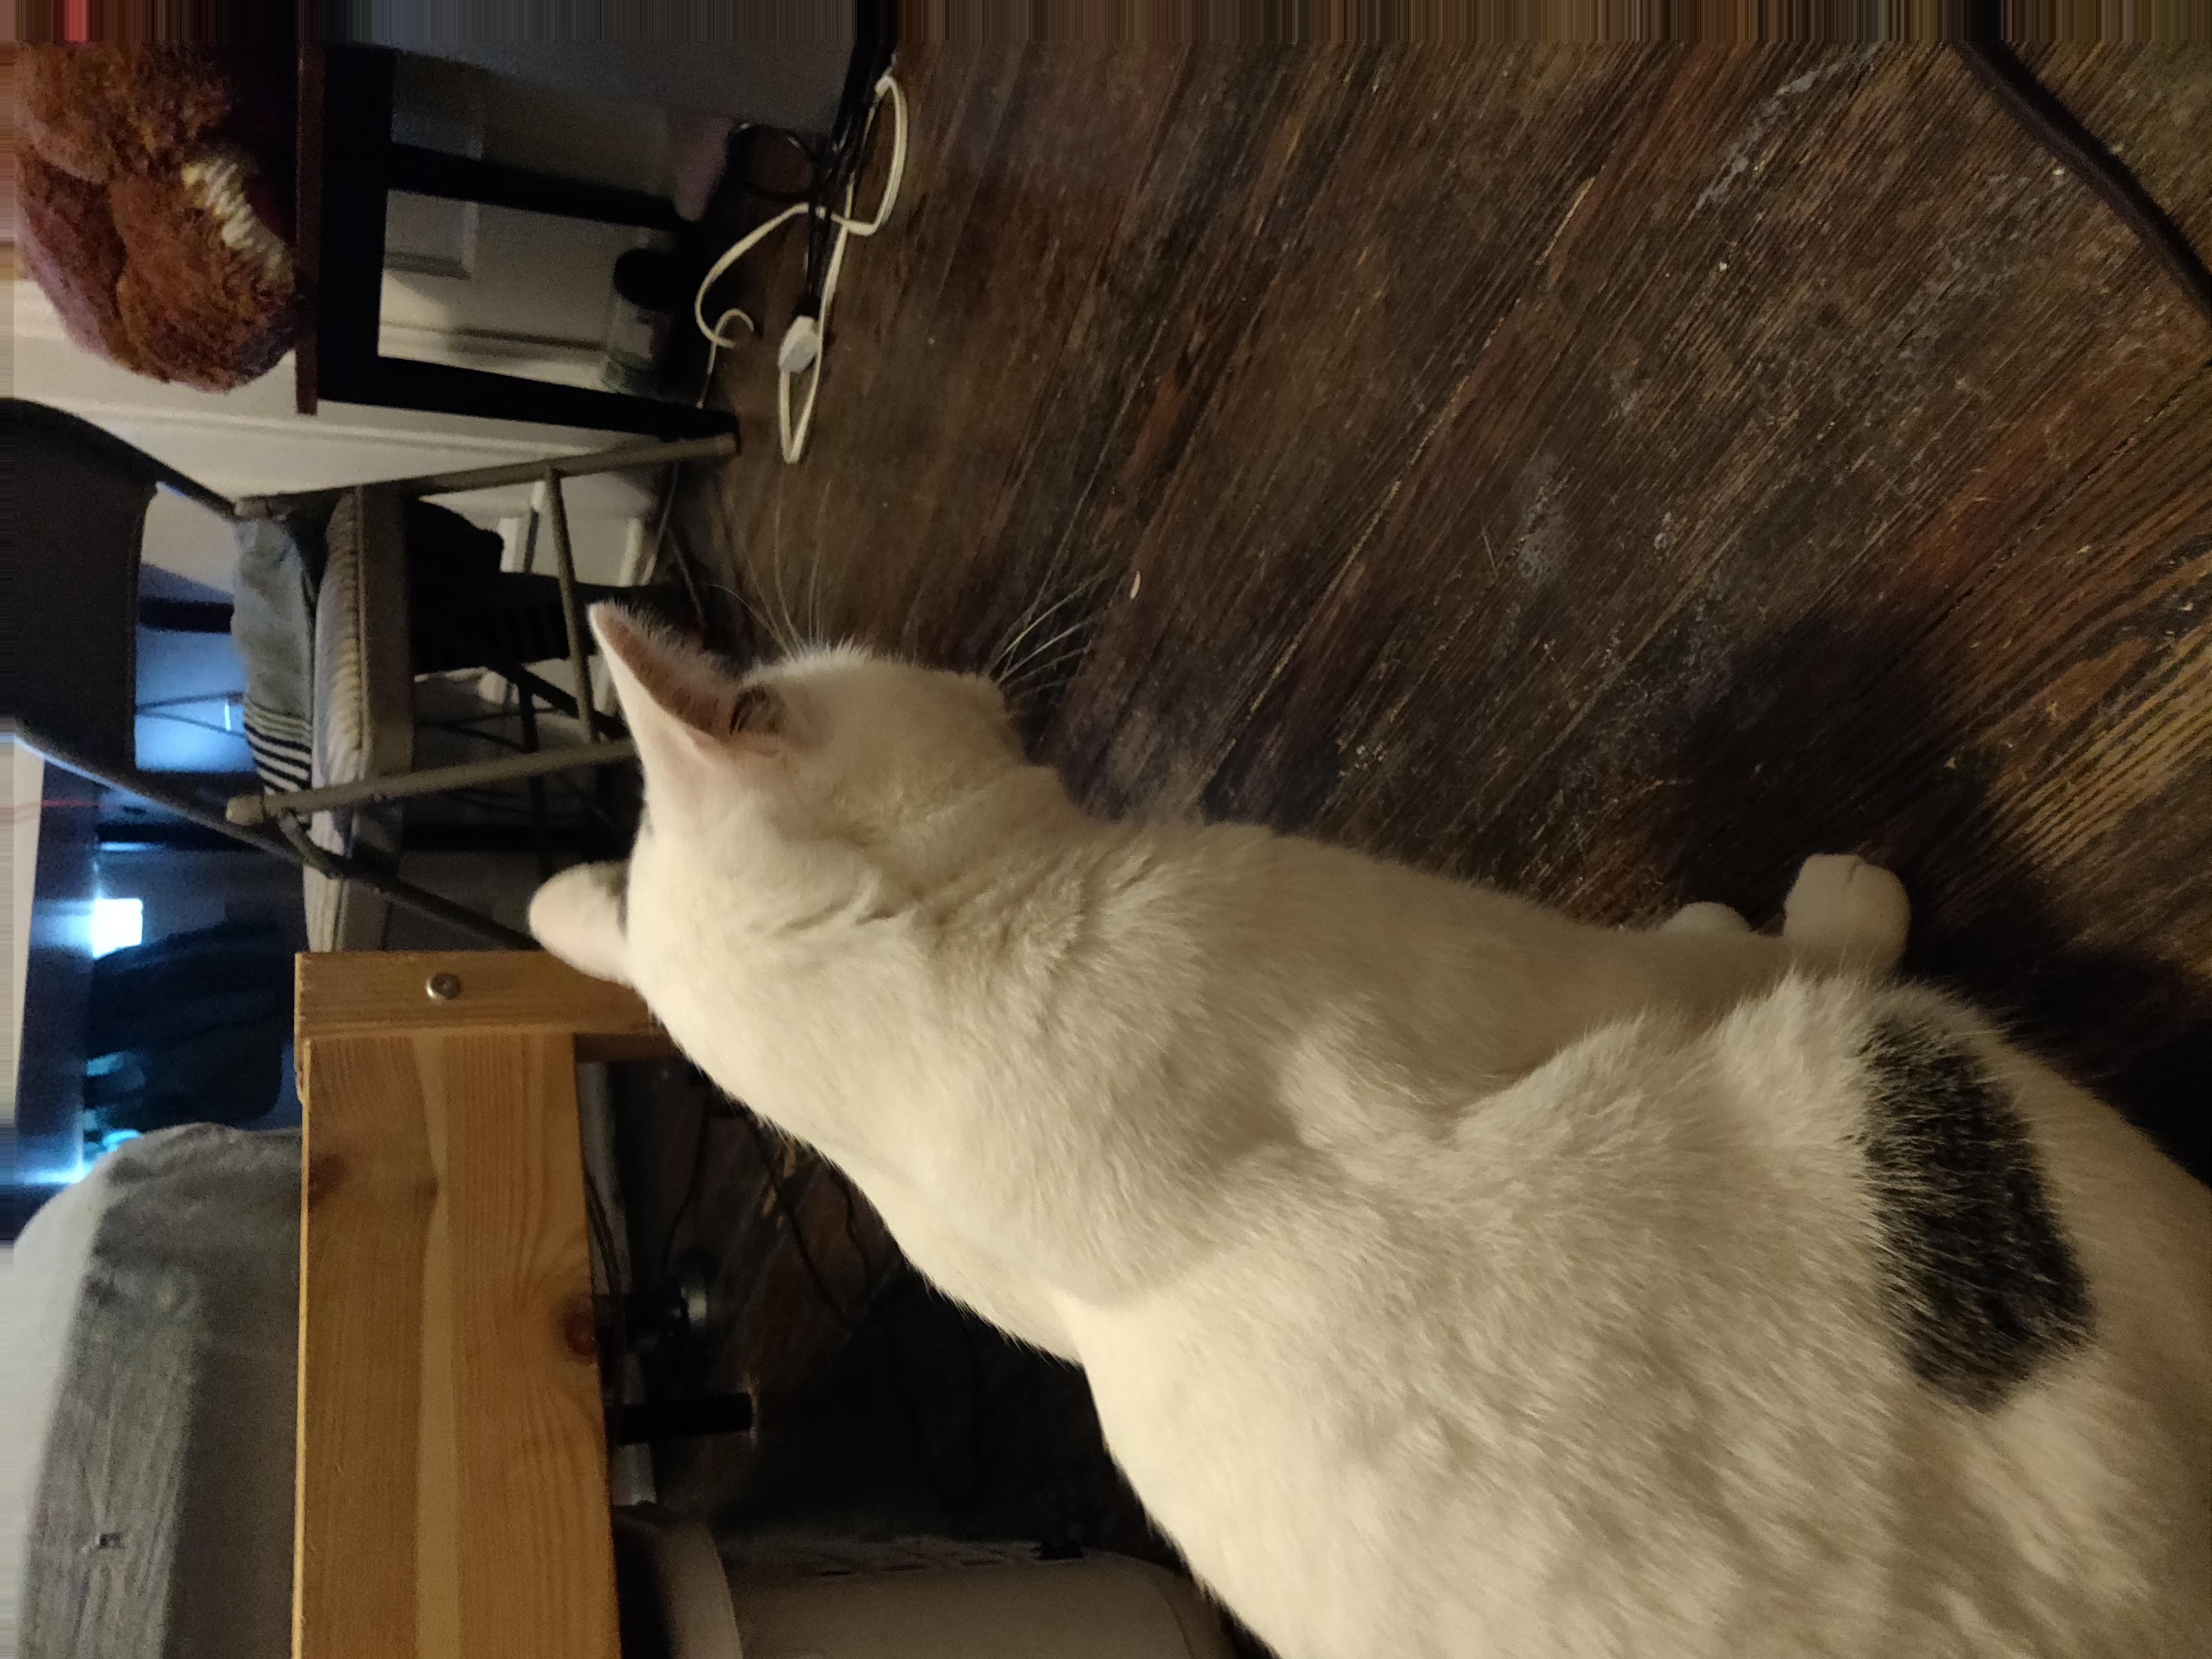cat: (510, 578, 2212, 1659)
